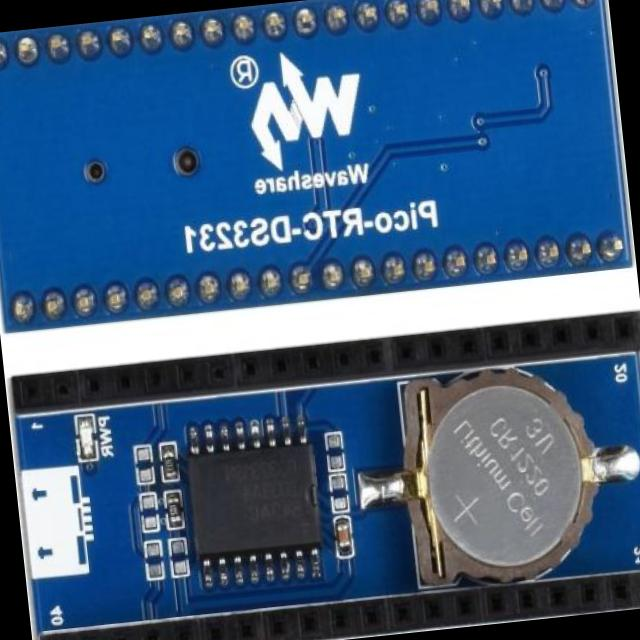IC: (184, 423, 326, 580)
LED: (74, 420, 100, 465)
capacitor: (332, 520, 353, 558)
connector: (7, 302, 640, 422), (43, 570, 640, 640)
resistor: (160, 491, 185, 546), (156, 446, 178, 486)
